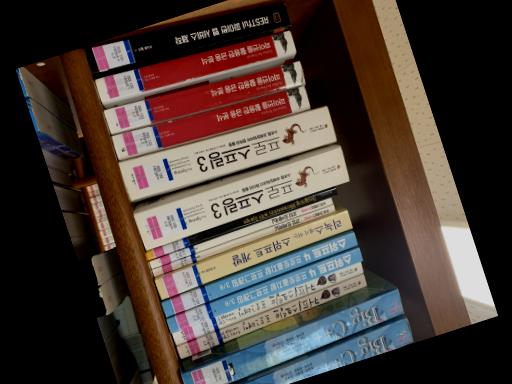book-spine: (133, 147, 349, 250), (180, 288, 403, 384), (117, 106, 335, 201), (153, 211, 352, 300), (165, 248, 362, 333), (161, 233, 356, 317), (175, 274, 366, 359), (170, 261, 363, 345), (82, 3, 290, 73), (94, 30, 295, 102), (103, 61, 304, 133), (111, 86, 309, 158), (144, 187, 336, 260), (150, 205, 335, 276), (148, 197, 332, 268), (245, 317, 413, 384)
